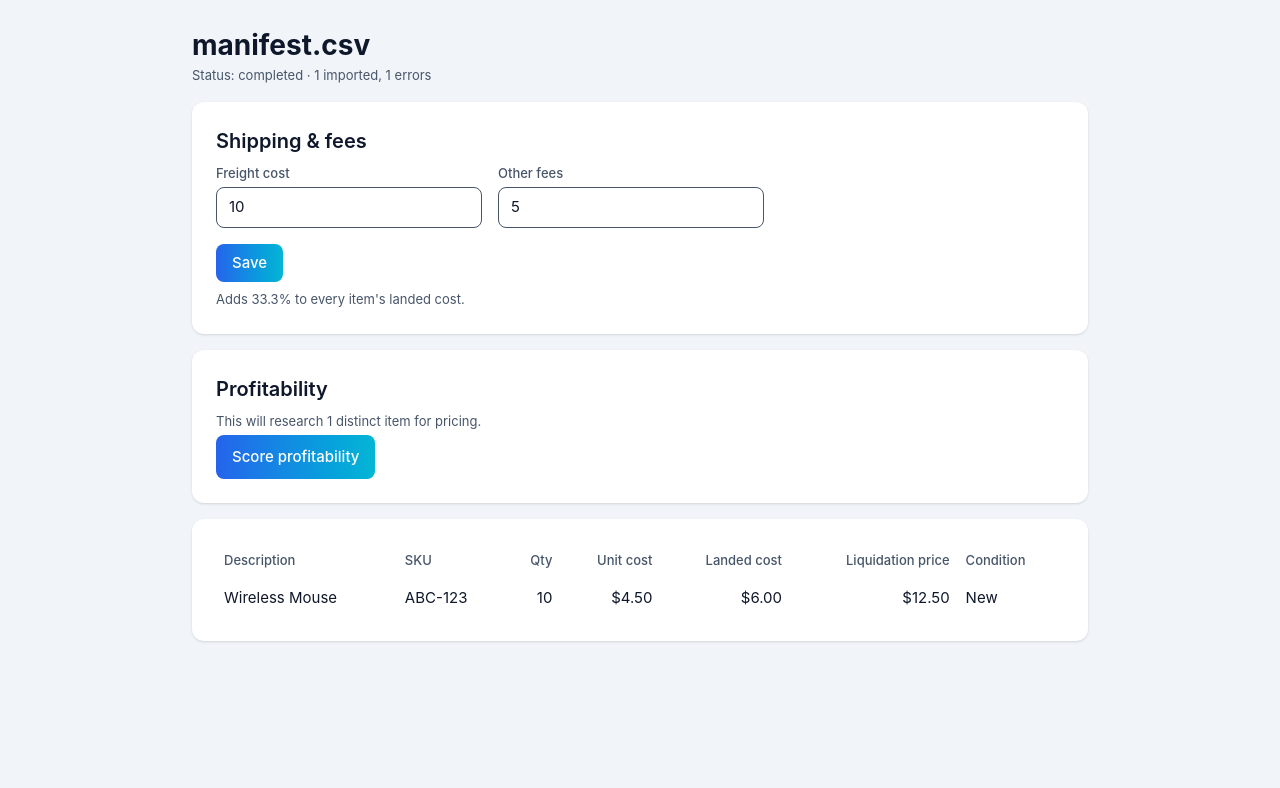
ManifestDetailPage › shows an error message when enqueueing profitability scoring fails
The image size is (1280, 788).
Click the button "Score profitability".
click(296, 457)  # box [216,435,376,479]
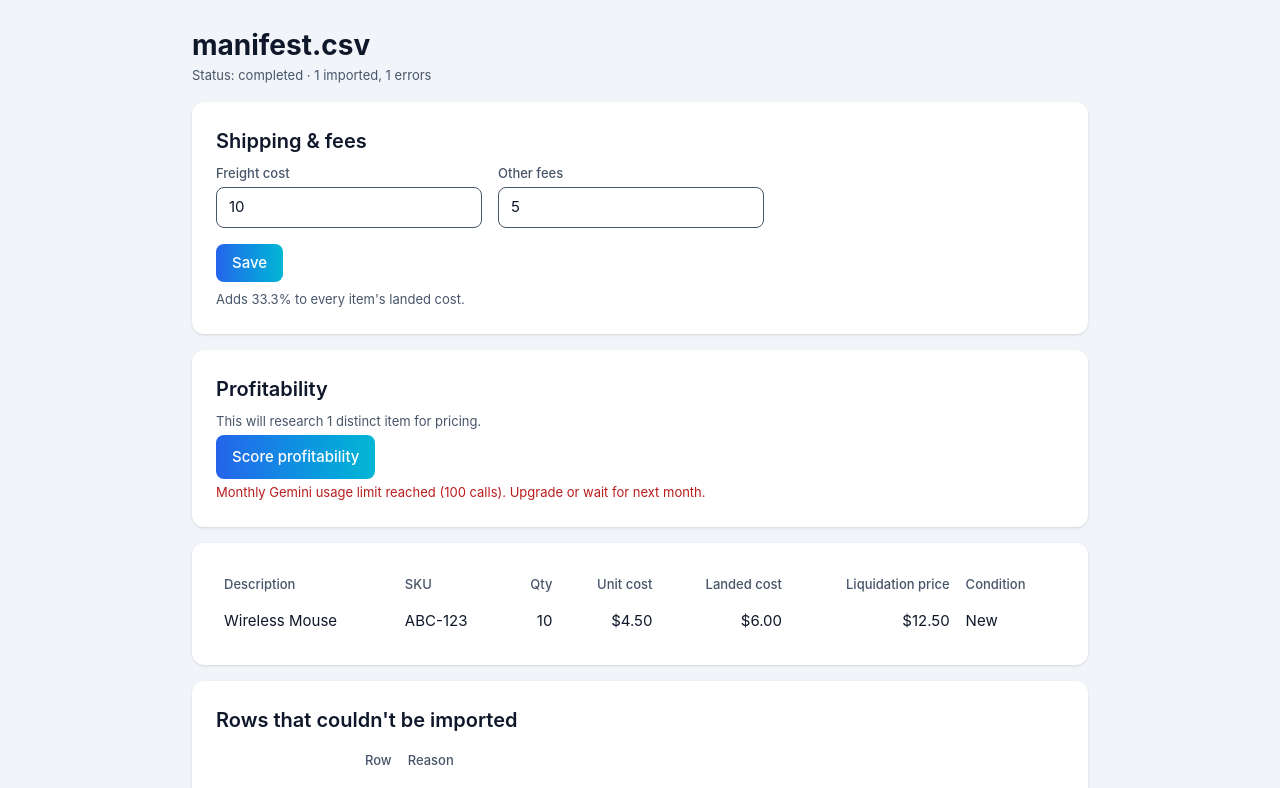
Expected: the text "Monthly Gemini usage limit reached (100 calls). Upgrade or wait for next month." is shown, [216,483,706,502]
